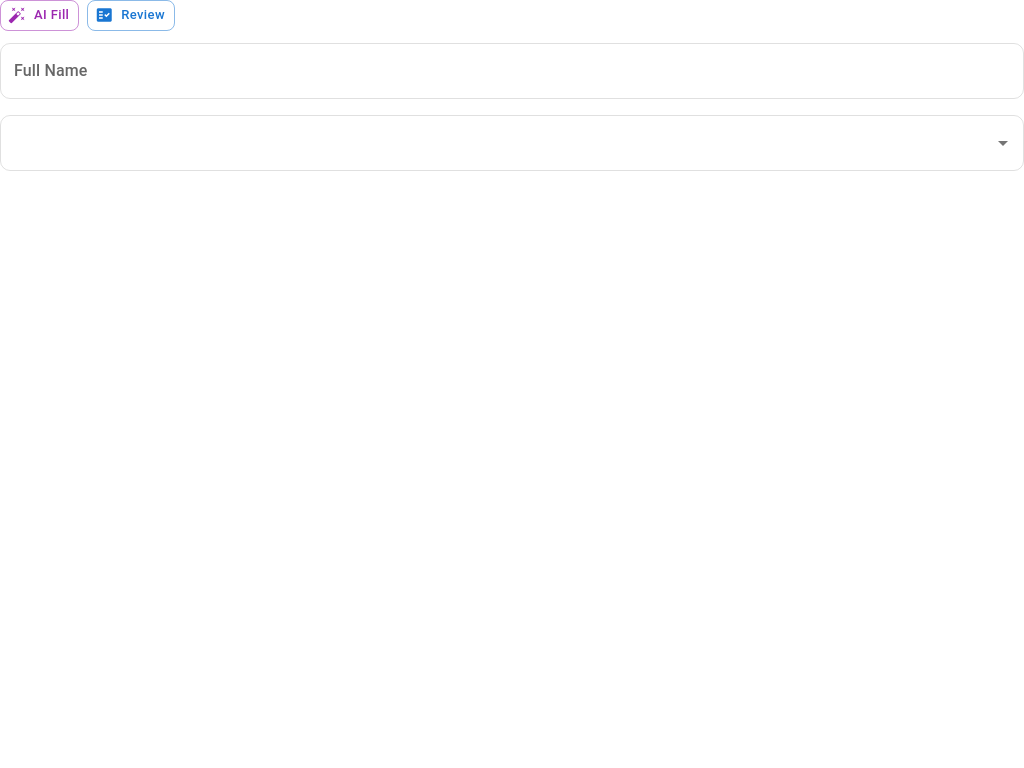
Test: AIForm › opens the AI Fill dialog and, on extract, feeds values into the form
Click the button "AI Fill": (40, 15) [0,0,79,31]
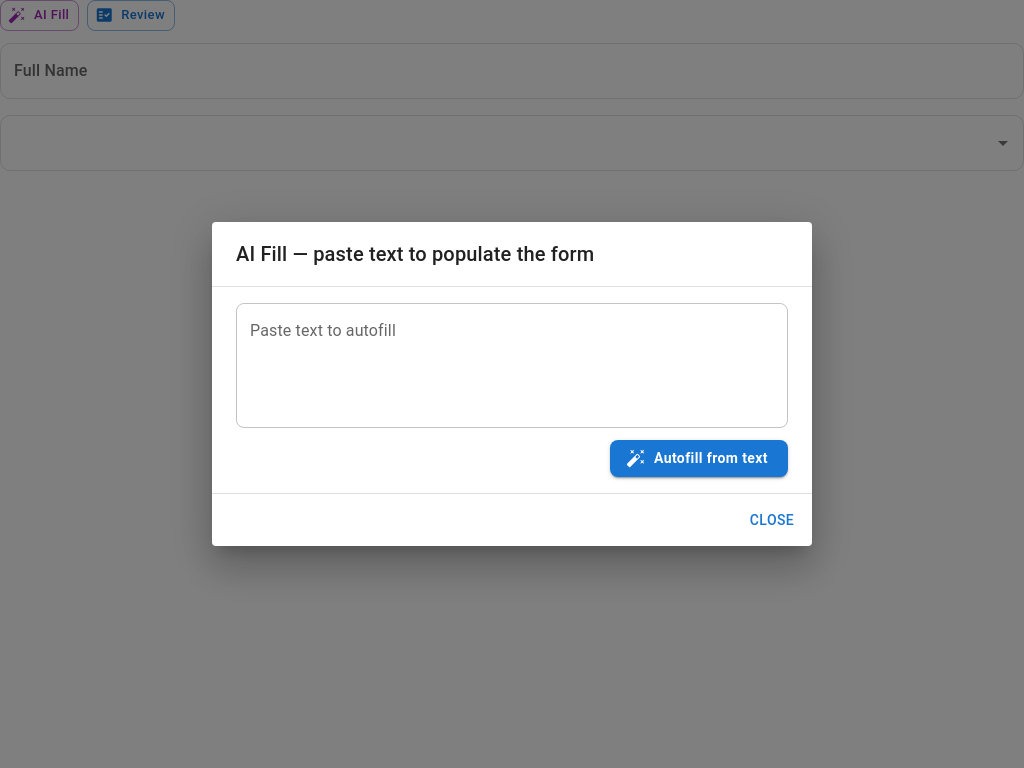
Replace the text in the text box labelled "Paste text to autofill" with "Her name is Ada Lovelace": (512, 366) [250,320,774,412]
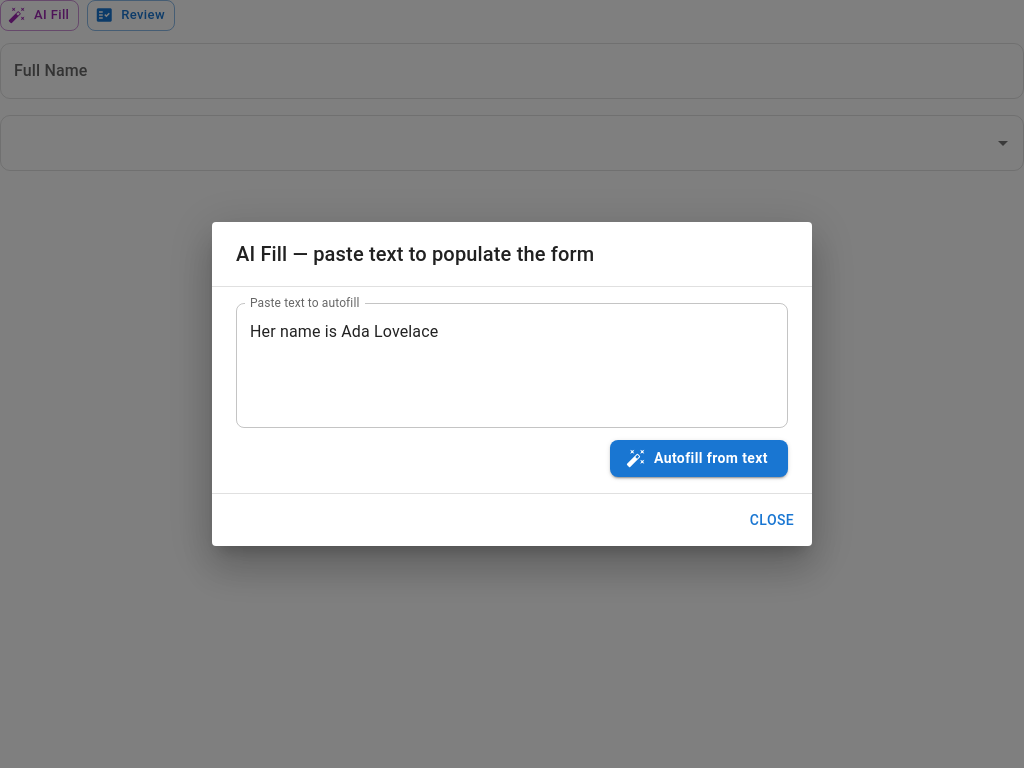
Click the button "Autofill from text": (699, 458) [610,440,788,476]
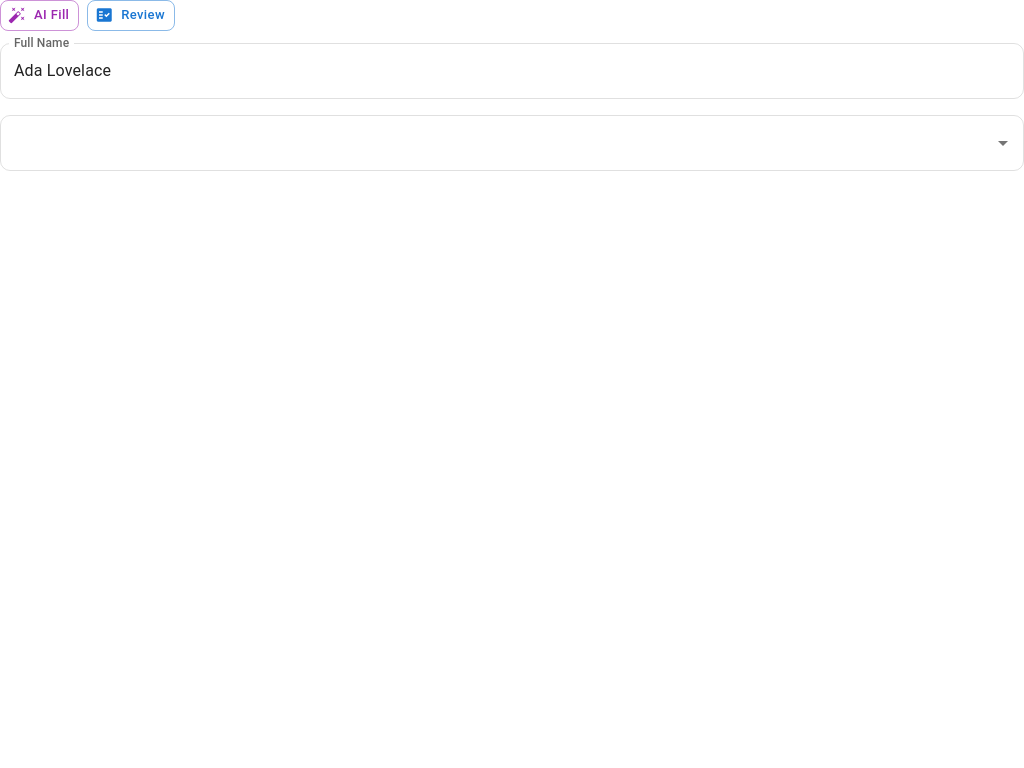
Check: the field labelled "Full Name" holds "Ada Lovelace", box [0,43,1023,99]
